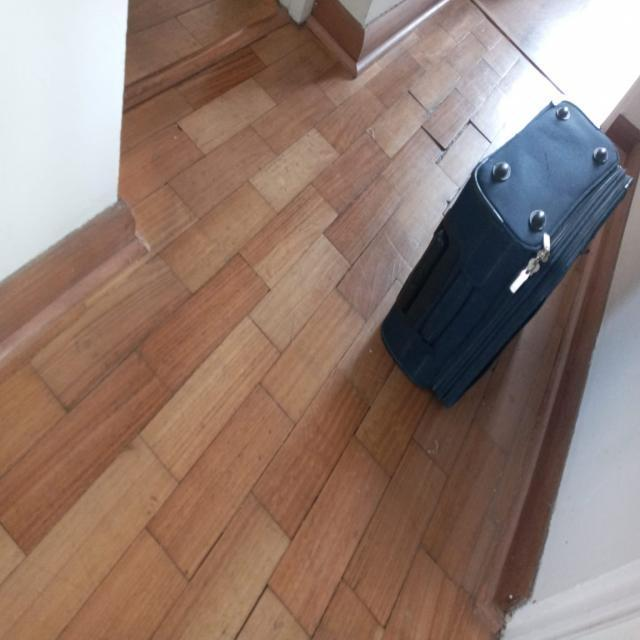Suitcase: (381, 97, 633, 405)
